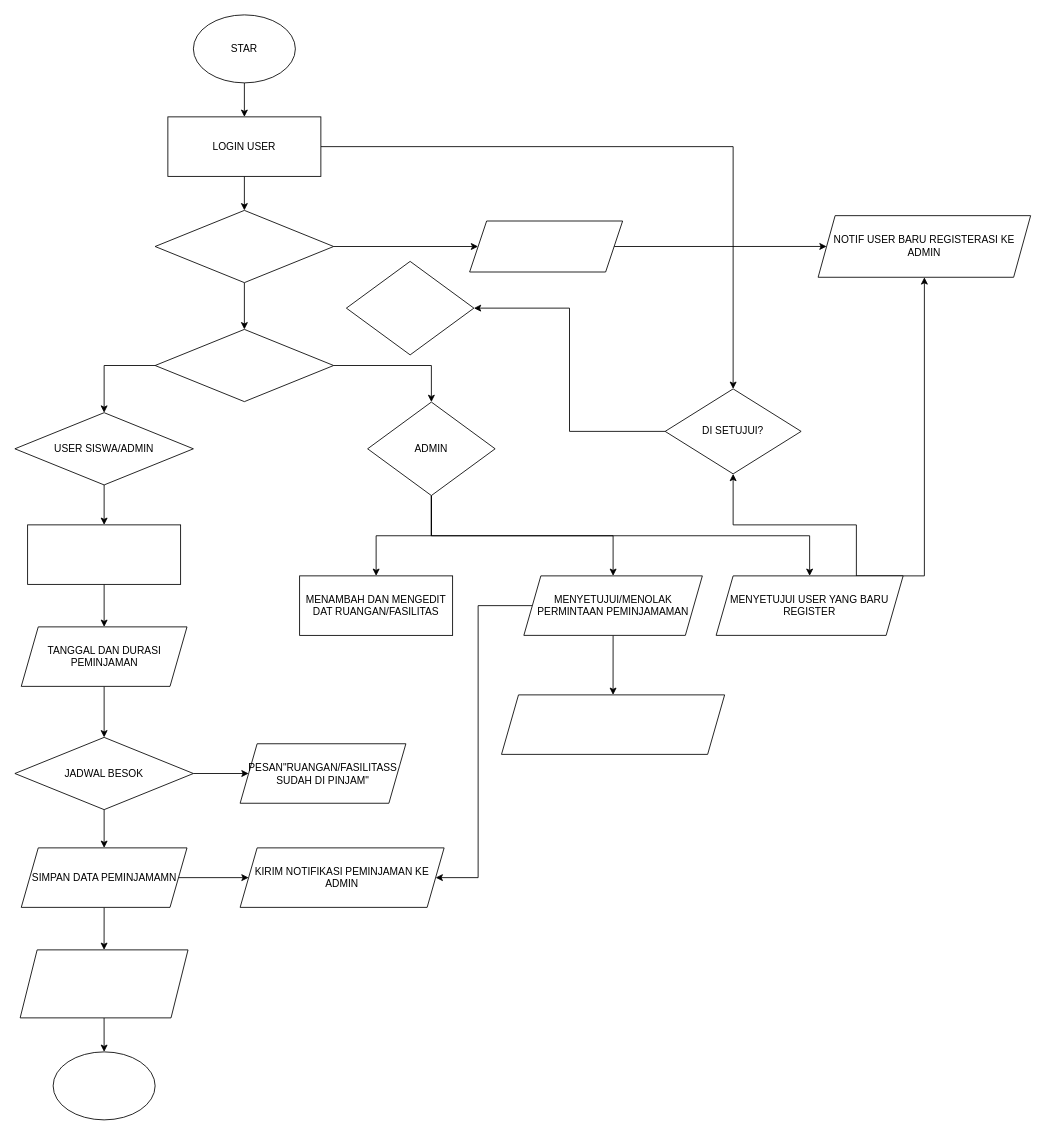
This 1046x1135 diagram has some shape labels left out. The shapes that lost their labels are listed below. From the top down, each one's centre as x and y in pixels, then its label:
pixel 244 246: SUDAH REGISTER?
pixel 546 246: REGISTER AKUN
pixel 410 308: TIDAK BISA LOGIN
pixel 244 365: ROLE AKUN
pixel 104 554: PILIH FASILITAS/RUANGAN
pixel 613 724: MENGEKSPOR LAPORAN PEMINJAMAN RUANGAN/FASILITAS KE EXCEL
pixel 103 983: TAMPILKAN DATA PEMINJAMAN
